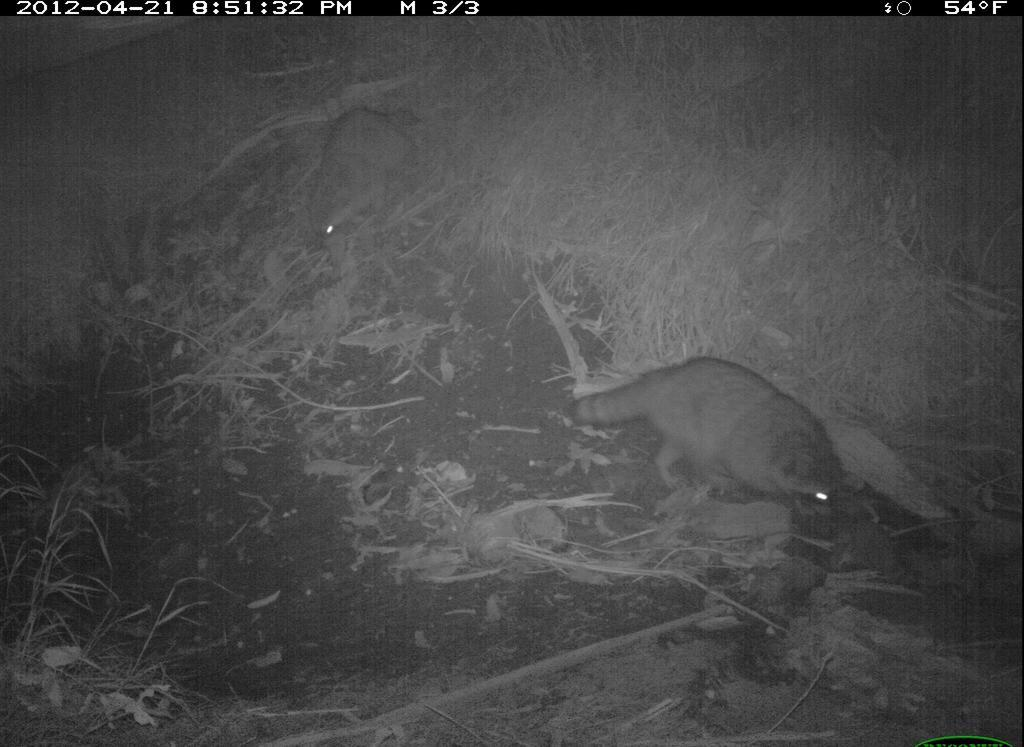raccoon: (555, 338, 889, 529), (294, 86, 447, 272)
